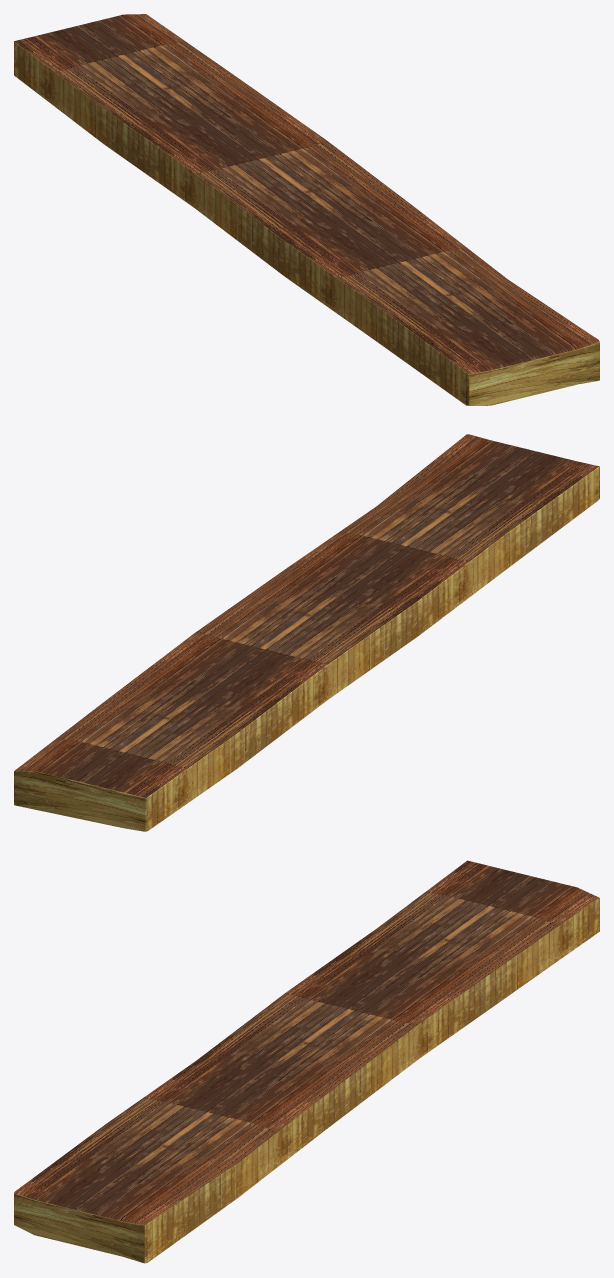
Rendered from BIG_LOG.fbx.
The picture shows the model from 3 angles, top to bottom: view 1: azimuth 30°, elevation 25°; view 2: azimuth 150°, elevation 25°; view 3: azimuth 330°, elevation 25°; orthographic projection.
Parts seen in each view (by area): view 1: polySurface12; view 2: polySurface12; view 3: polySurface12.
Boxes of the visible parts, <box> form: polySurface12: <box>14,14,599,405</box>; polySurface12: <box>14,434,599,831</box>; polySurface12: <box>14,860,599,1263</box>.
Size of the model in its own units: 17.12 by 5.14 by 102.
Materials: 3 (3 with a texture image).
